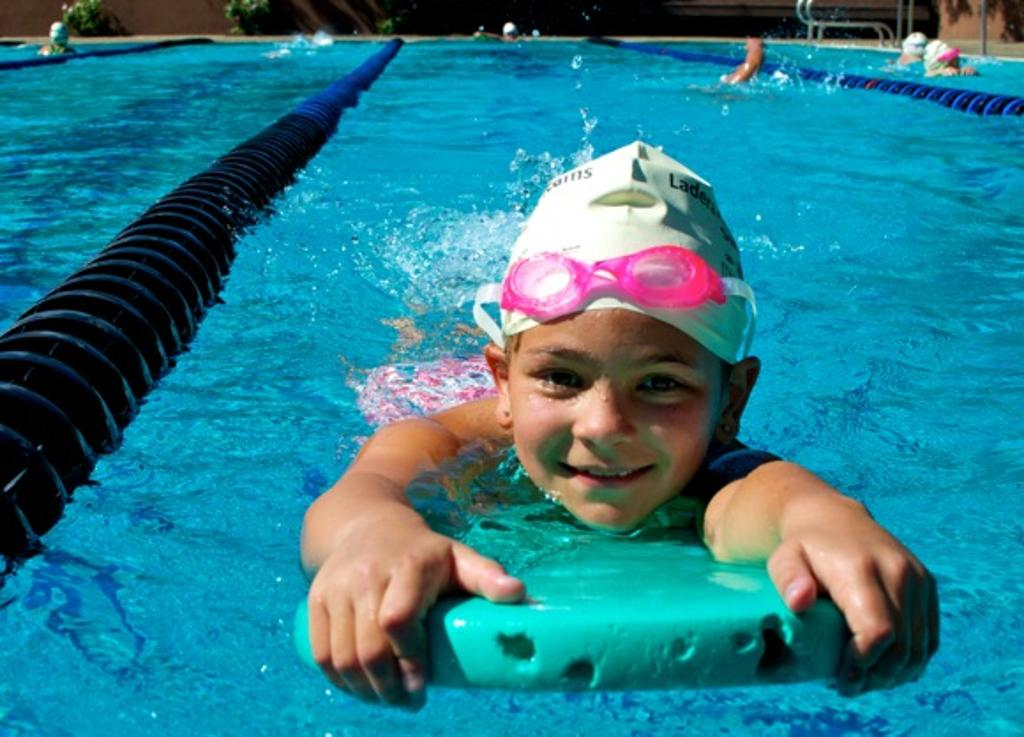face: (516, 318, 710, 530)
